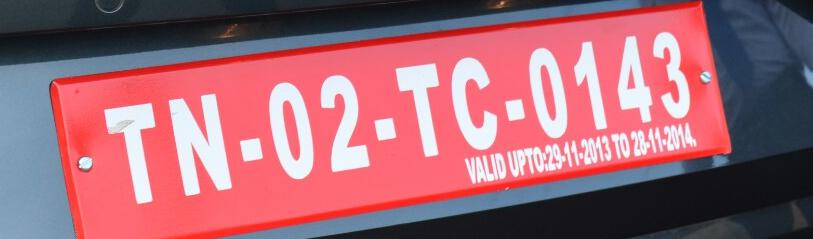0: (264, 81, 317, 180), (525, 46, 572, 139)
1: (569, 41, 614, 130)
2: (319, 73, 372, 173)
3: (651, 30, 694, 120)
4: (613, 34, 656, 122)
C: (447, 55, 500, 150)
N: (164, 92, 236, 196)
T: (100, 101, 160, 203), (391, 61, 442, 158)
